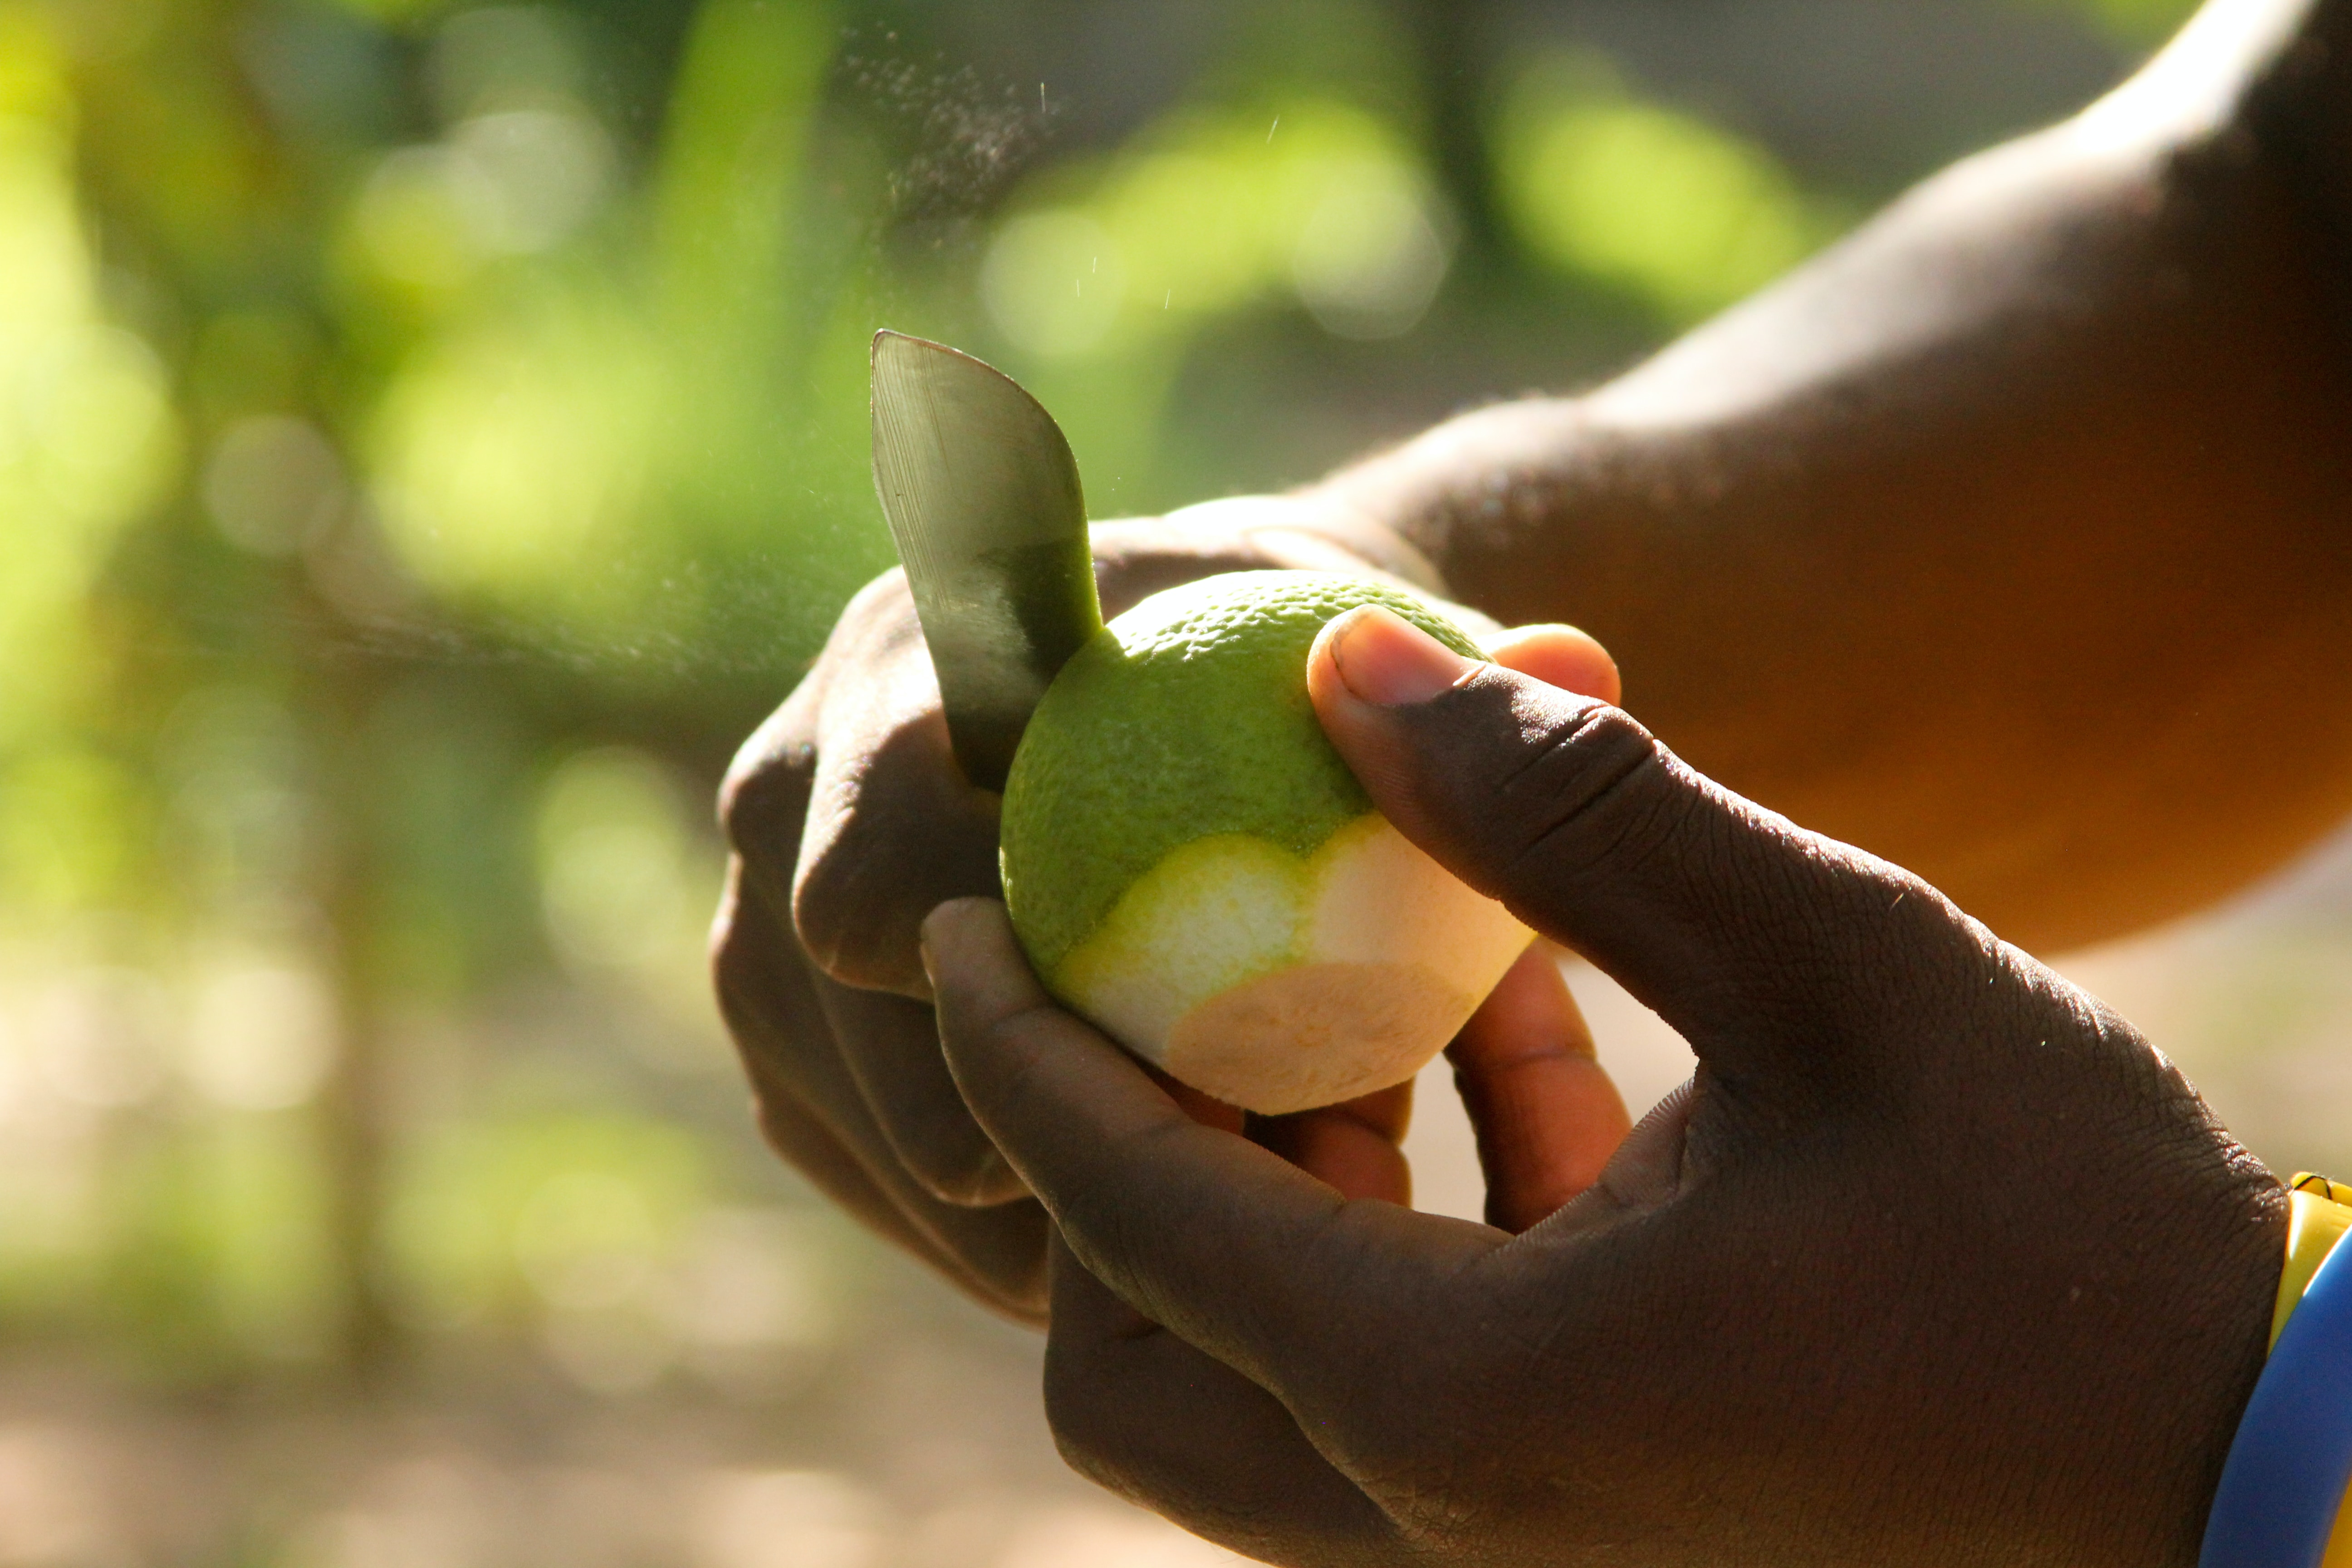knife: (852, 310, 1158, 875)
